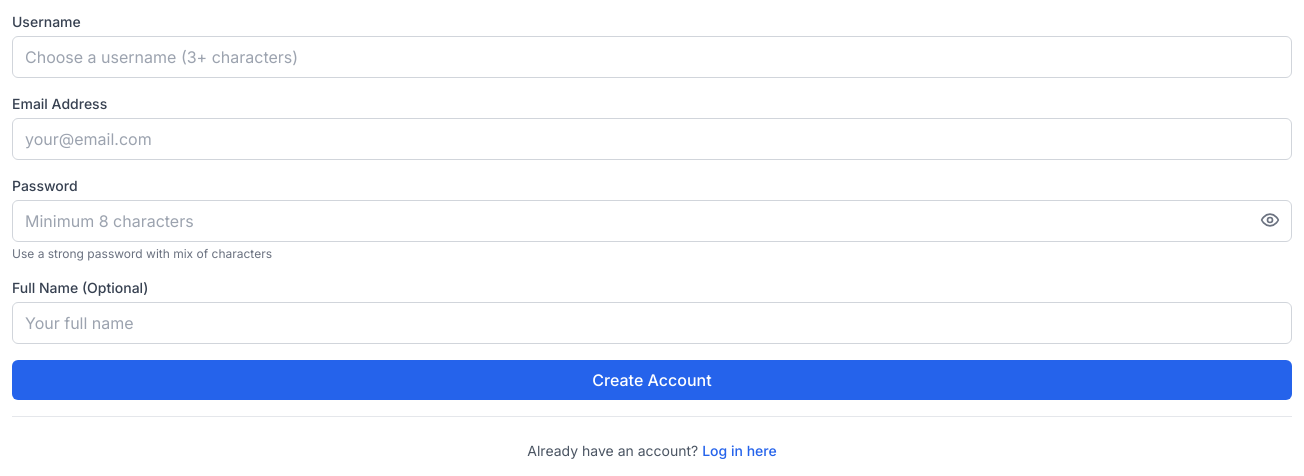
Test: SignupForm › should disable submit button while loading
The image size is (1304, 476).
Step 1. Type "newuser" into the field labelled "Username" → [652, 57], box [12,36,1292,78]
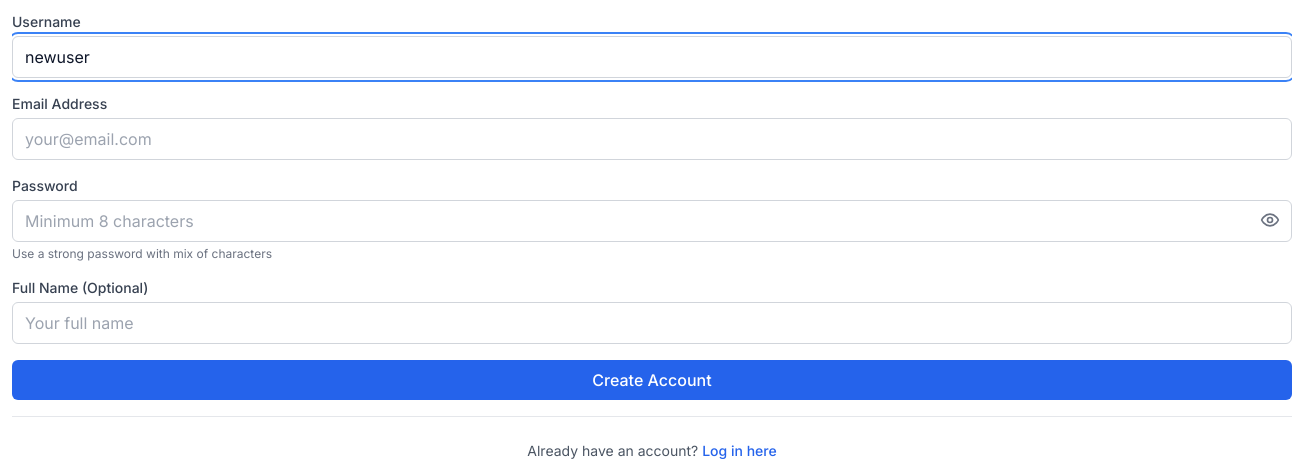
Step 2. Type "new@example.com" into the field labelled "Email Address" → [652, 139], box [12,118,1292,160]
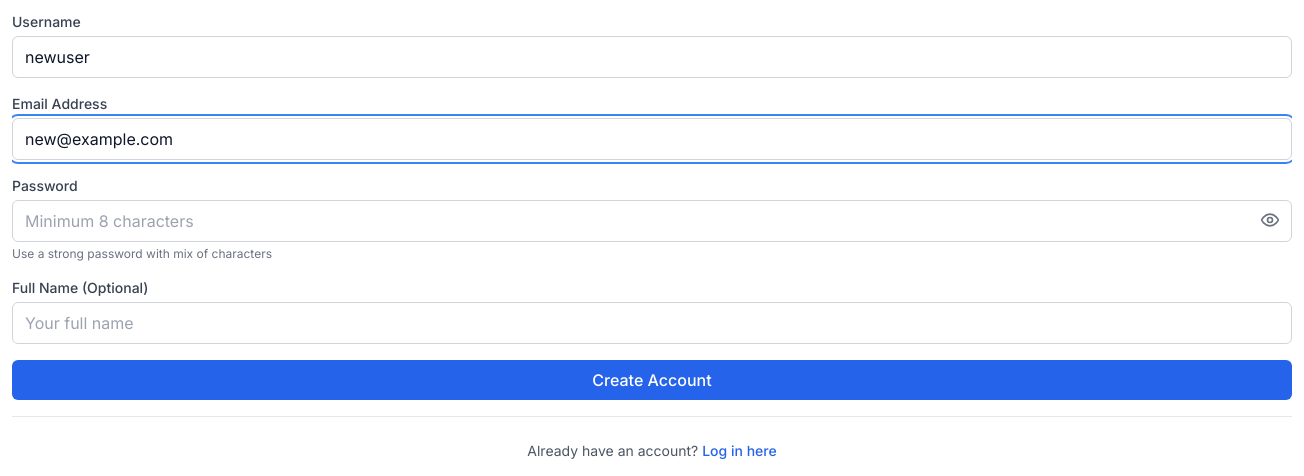
Step 3. Type "password123" into the password field labelled "Password" → [652, 221], box [12,200,1292,242]
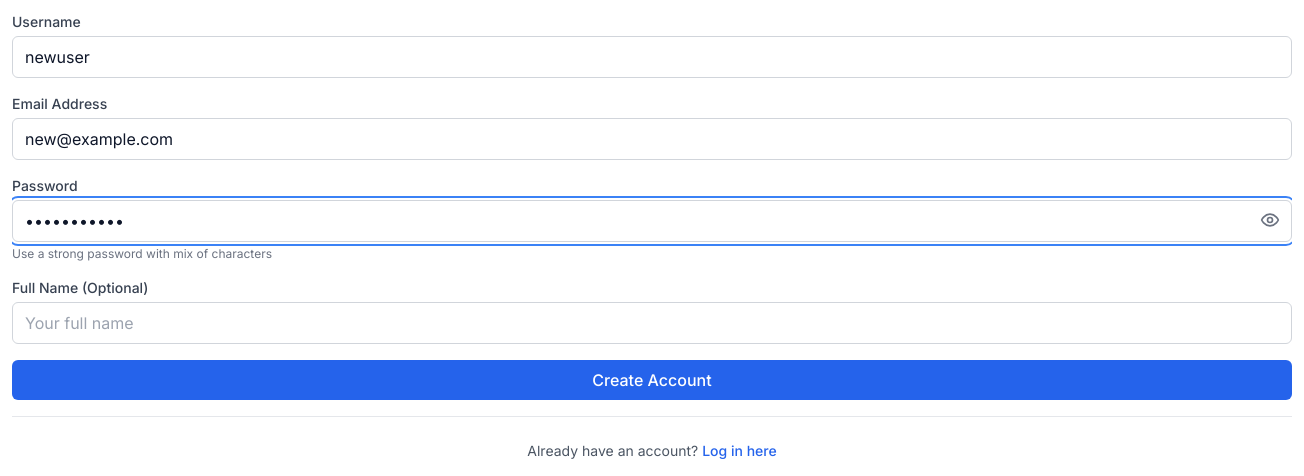
Step 4. Click the button "Create Account" → [652, 380], box [12,360,1292,400]
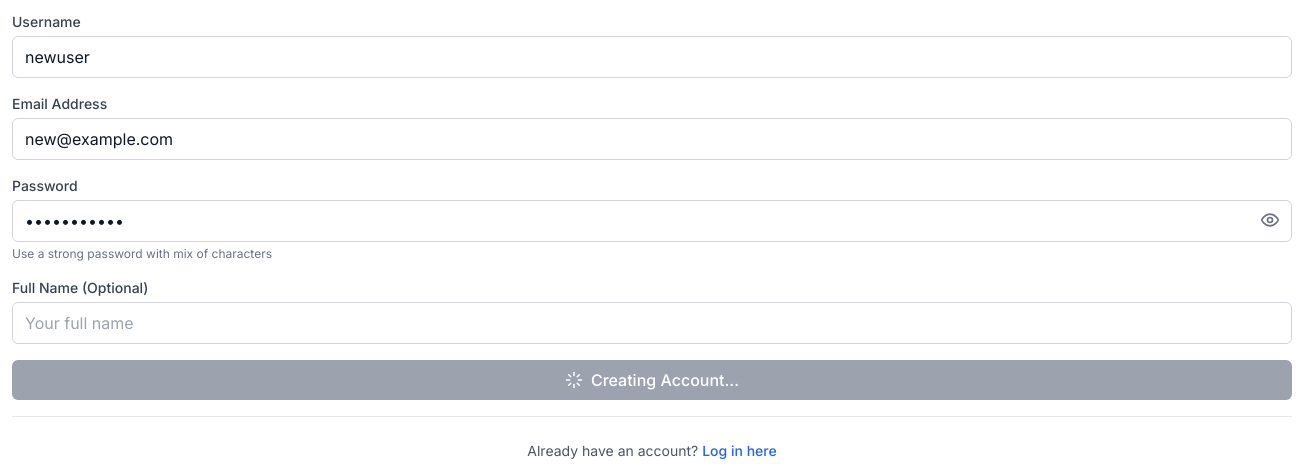
Check: the button named "create account" is disabled, box [12,360,1292,400]
